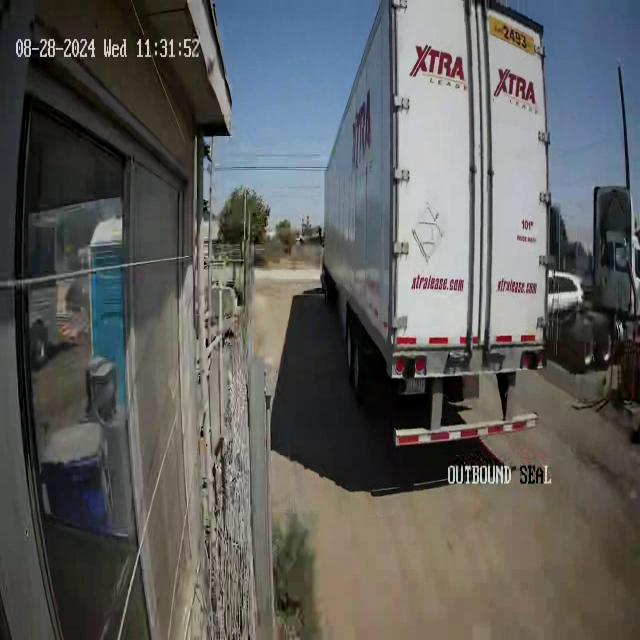TRUCK_CONTAINER: (318, 1, 552, 451)
